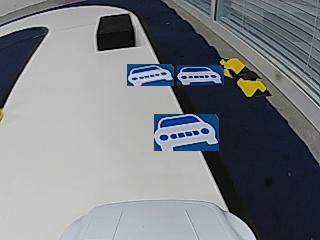block: (96, 14, 136, 50)
